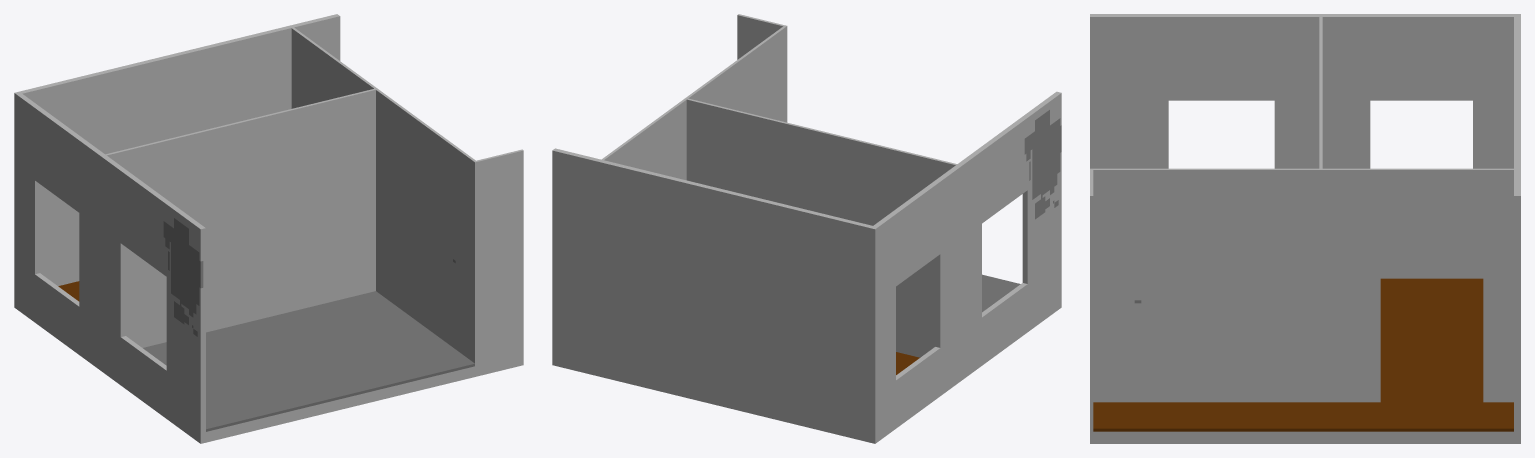
Rendered from 4x2 third (1)-0.obj.
3 views of the same model, side by side, from view 1: azimuth 30°, elevation 25°; view 2: azimuth 150°, elevation 25°; view 3: azimuth 270°, elevation 25° (orthographic). The views are drawn at different scales.
Parts seen in each view (by area): view 1: 4x2 third (1)-0; view 2: 4x2 third (1)-0; view 3: 4x2 third (1)-0.
Part boxes in pixels (left/top/right/bottom): 4x2 third (1)-0: left=14, top=14, right=523, bottom=443; 4x2 third (1)-0: left=552, top=14, right=1061, bottom=443; 4x2 third (1)-0: left=1090, top=14, right=1520, bottom=443.
Size of the model in its own units: 126 by 80 by 126.
Materials: 1 (1 with a texture image).
